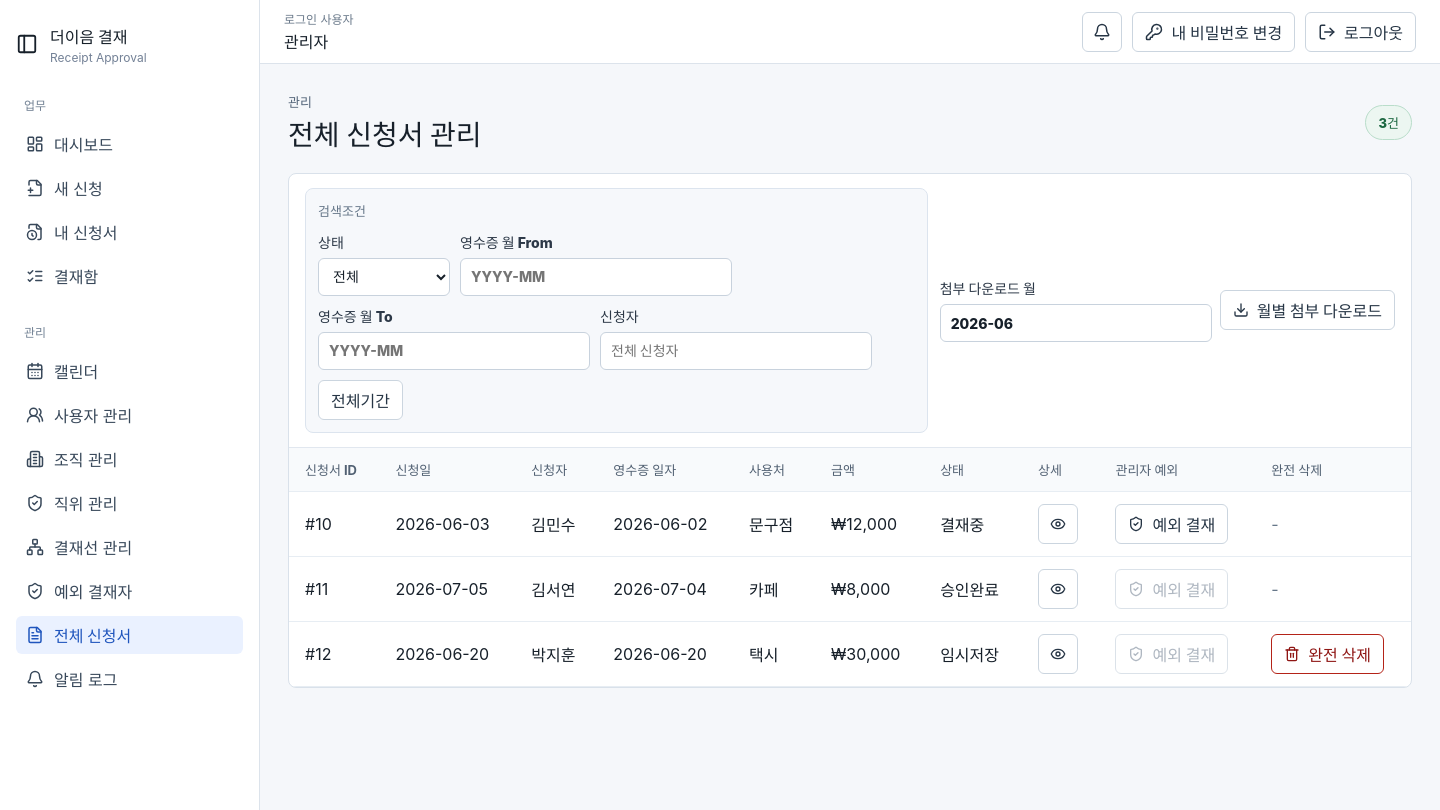
AdminApplicationsPage › 관리자 예외 결재 사유를 입력해야 처리된다
Click the button "예외 결재" in the row of "10" at (1172, 524), box x1=1116 y1=504 x2=1228 y2=544
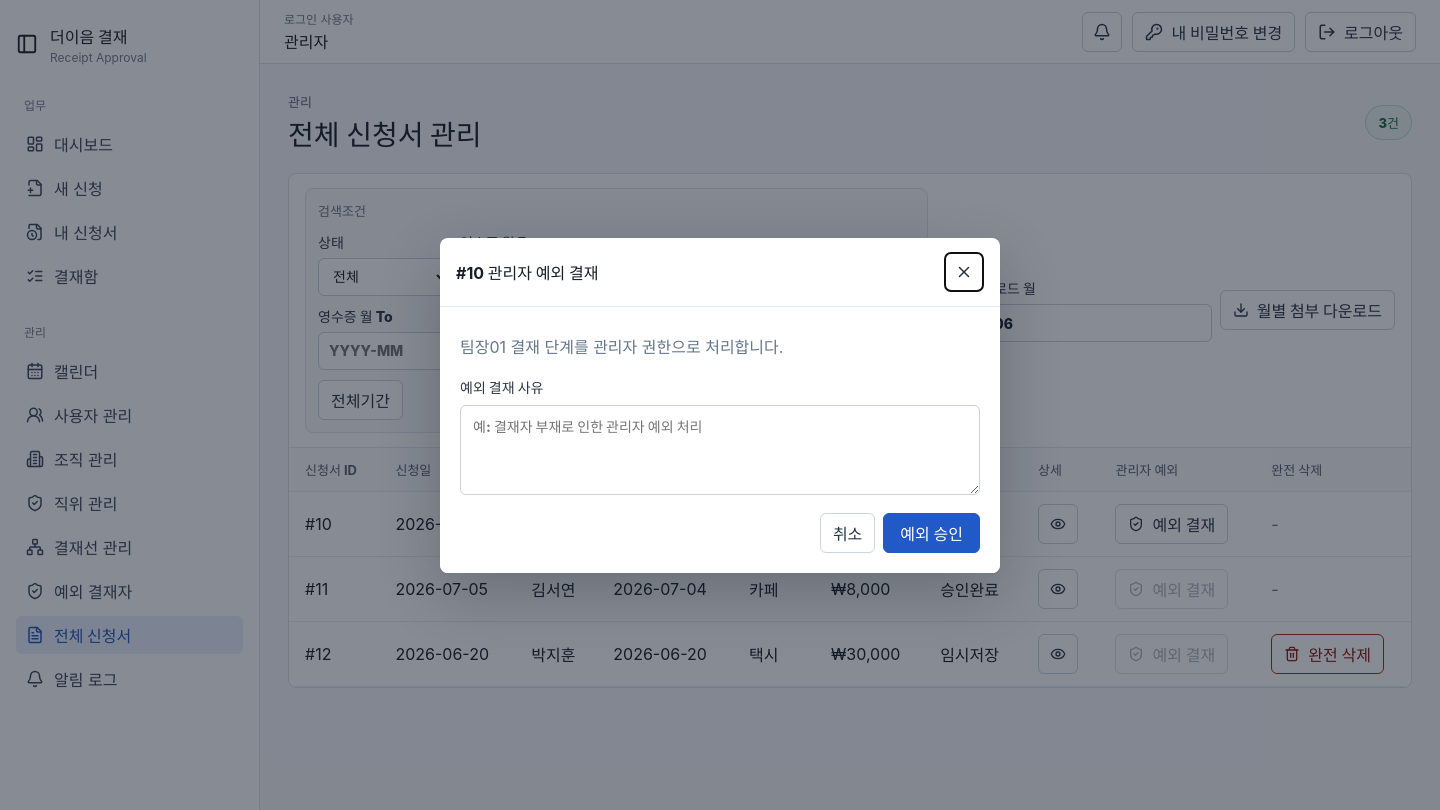
Click the button "예외 승인" at (932, 532), box x1=883 y1=512 x2=980 y2=552
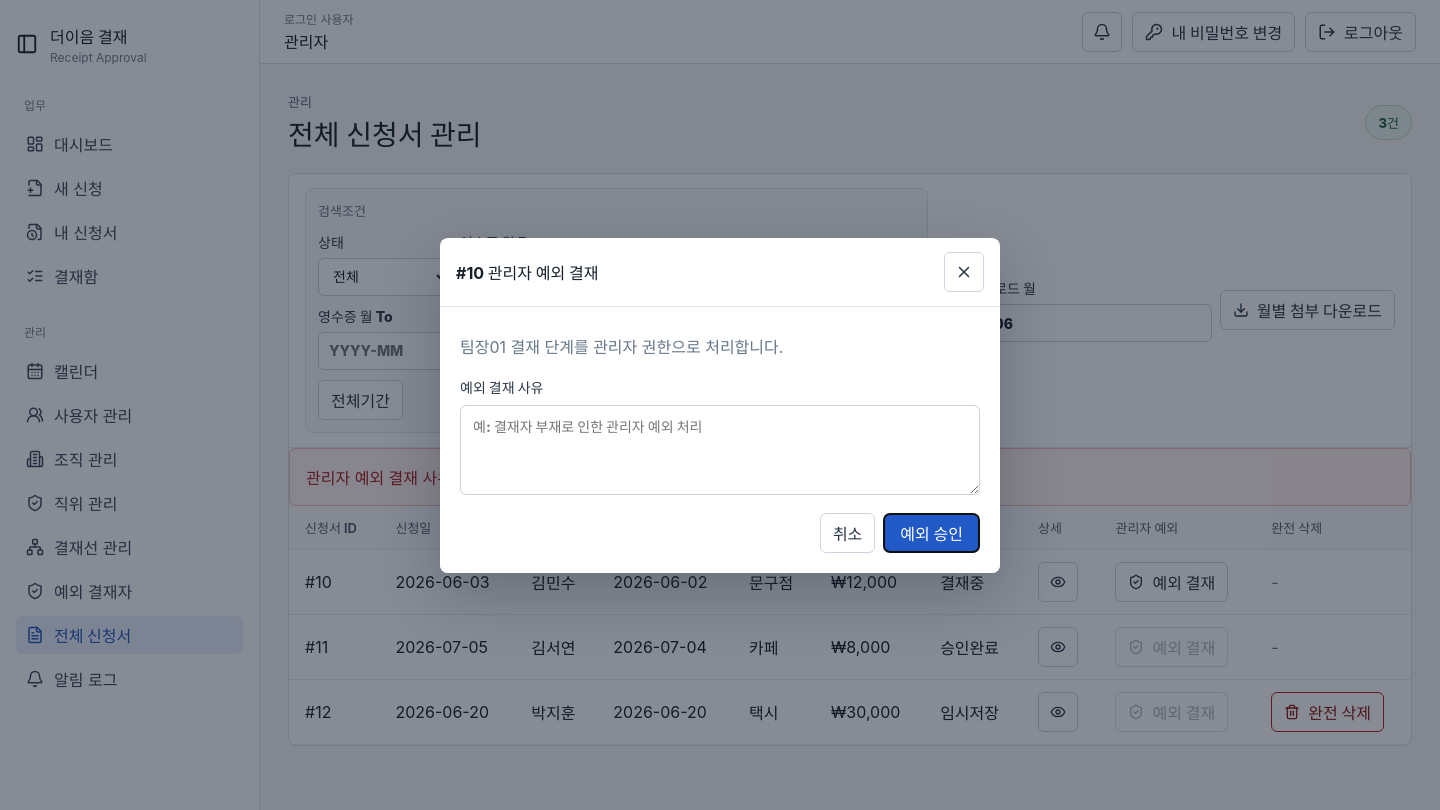
Expected: the message reads "관리자 예외 결재 사유를 입력해주세요.", x1=306 y1=468 x2=564 y2=488
Type "팀장 출장으로 관리자 예외 처리" into the text box labelled "예외 결재 사유" at (720, 450), box x1=460 y1=404 x2=980 y2=494
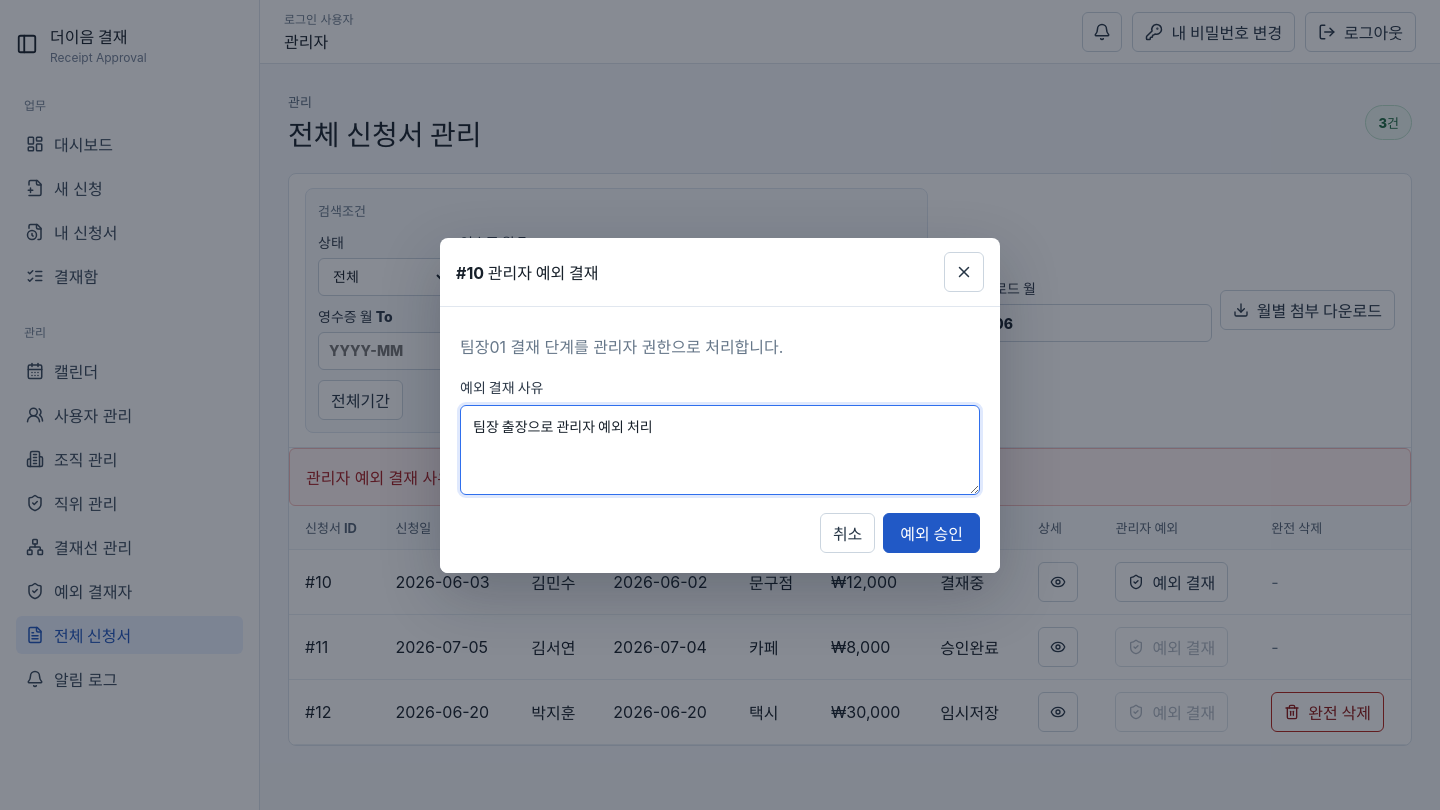
Click the button "예외 승인" at (932, 532), box x1=883 y1=512 x2=980 y2=552
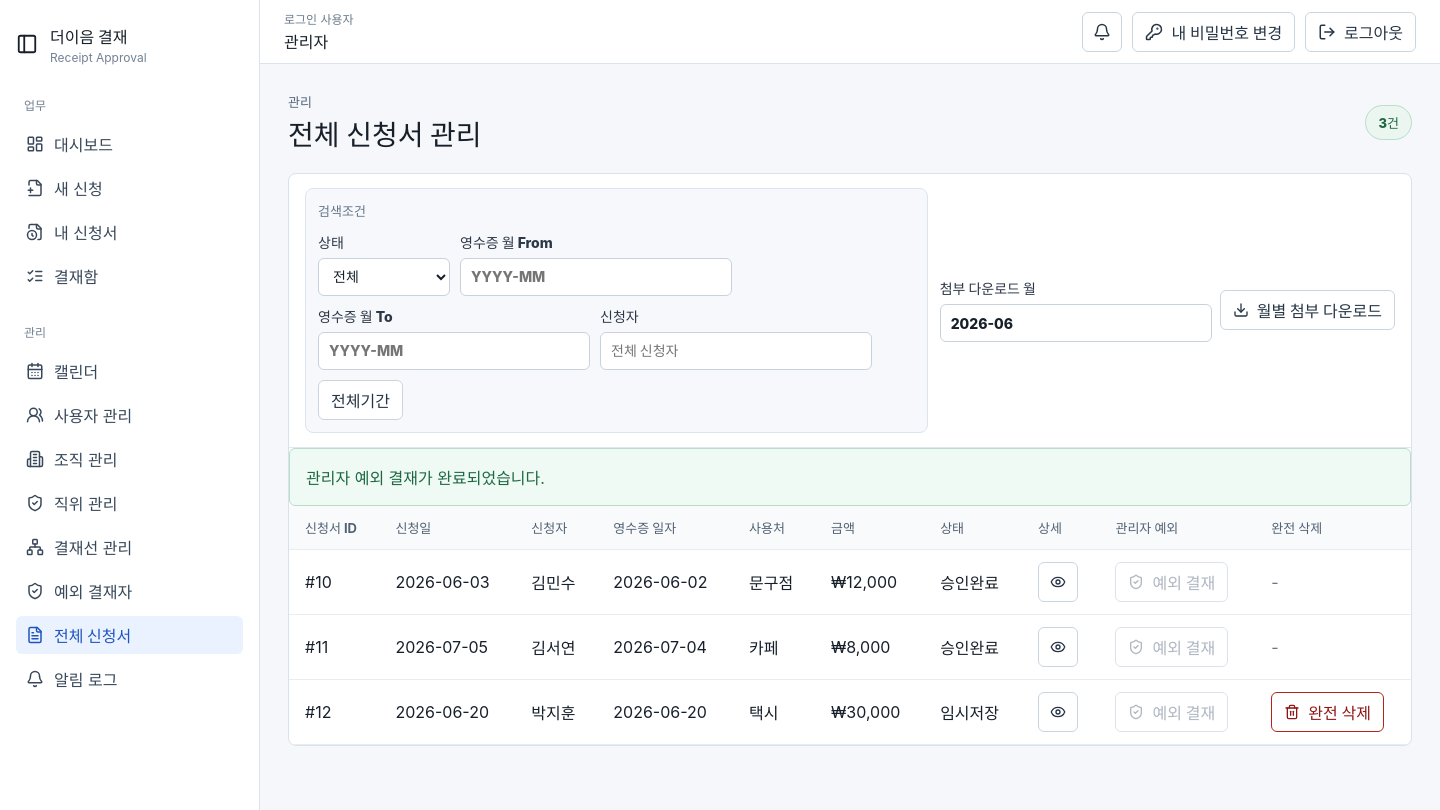
Expected: the message reads "관리자 예외 결재가 완료되었습니다.", x1=306 y1=468 x2=545 y2=488
